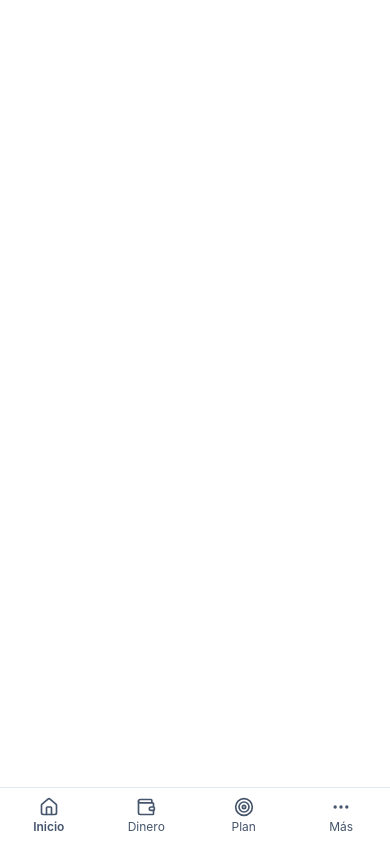
Test: MobileBottomNav (TC-C-020, TC-C-025) › TC-C-026: plan tab opens bottom sheet
Click the button "Plan": (244, 816) [195,788,292,843]
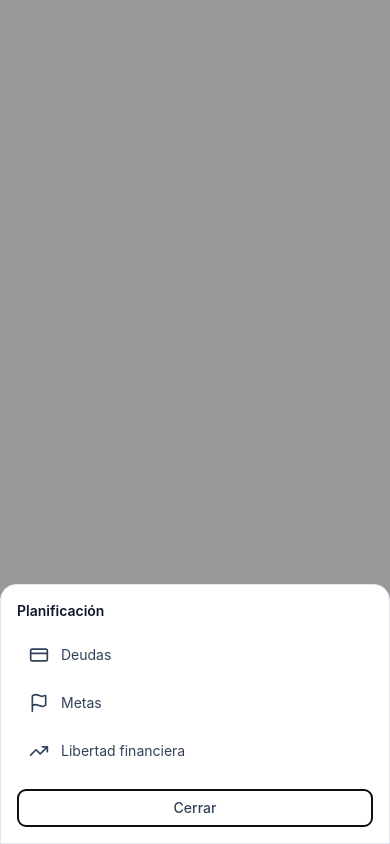
expect the dialog with test id "nav-bottom-sheet" is shown: met, box [0,584,389,843]
expect the link "Deudas" is shown: met, box [29,645,111,665]
expect the link "Metas" is shown: met, box [29,693,102,713]
